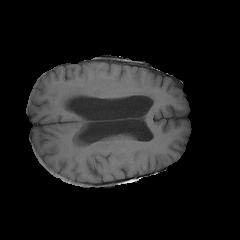glioma: (58, 77, 156, 100)
